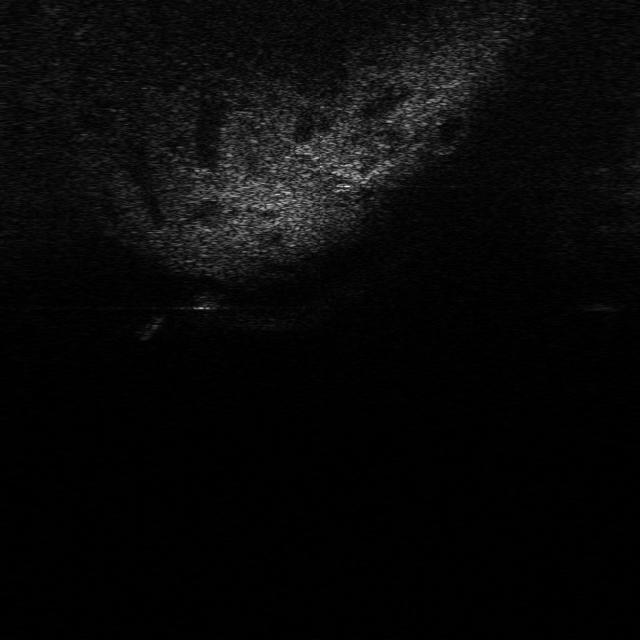cube: (187, 284, 226, 312)
cylinder: (132, 312, 167, 342)
